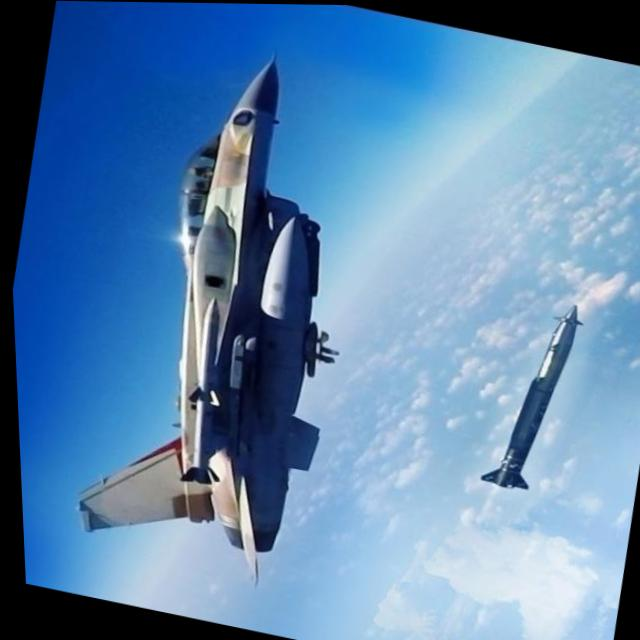missile: (469, 286, 587, 498)
